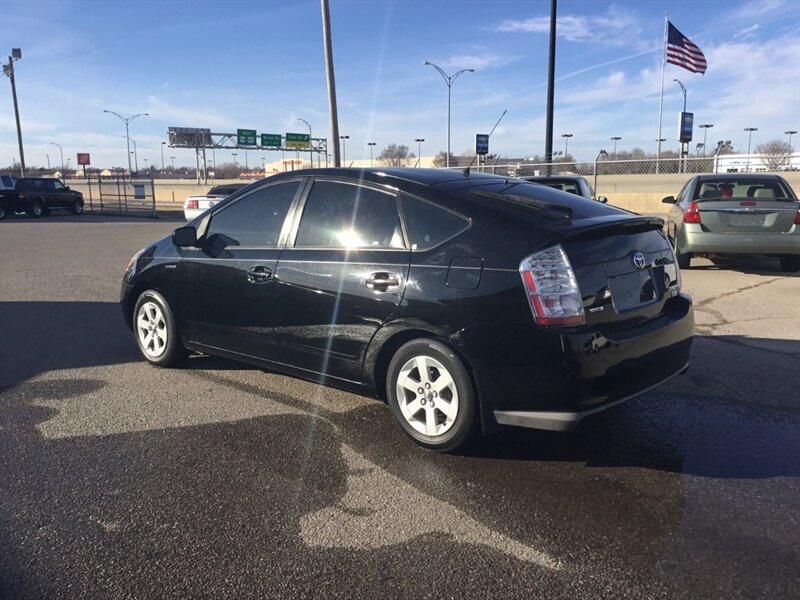Toyota Prius: (117, 163, 697, 456)
